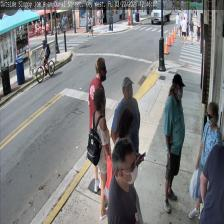person: (110, 76, 140, 224), (111, 107, 144, 224), (188, 102, 220, 217), (107, 136, 144, 224), (163, 73, 185, 213), (90, 86, 112, 218), (88, 57, 107, 193)
